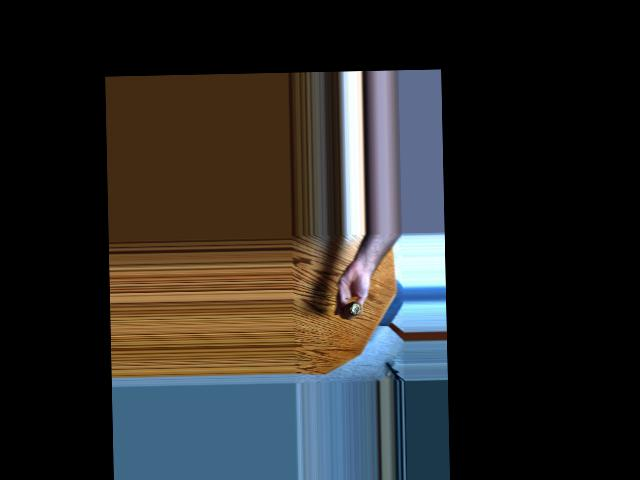sweet_potato: (338, 295, 366, 322)
